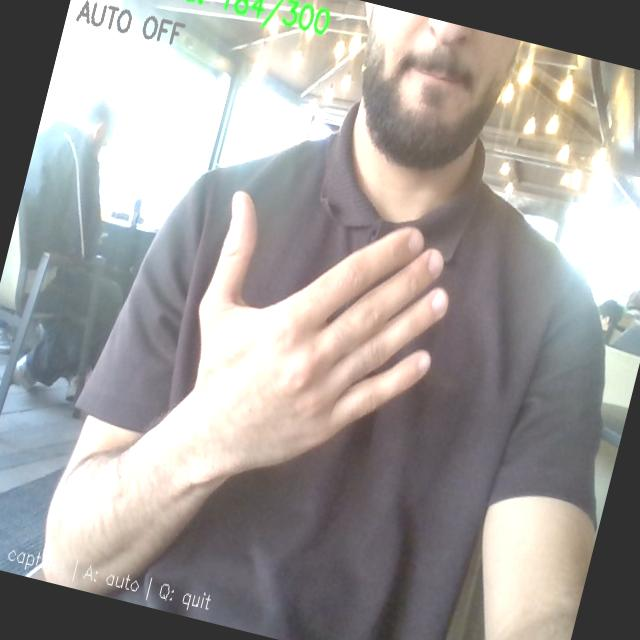Hand: (187, 193, 446, 476)
